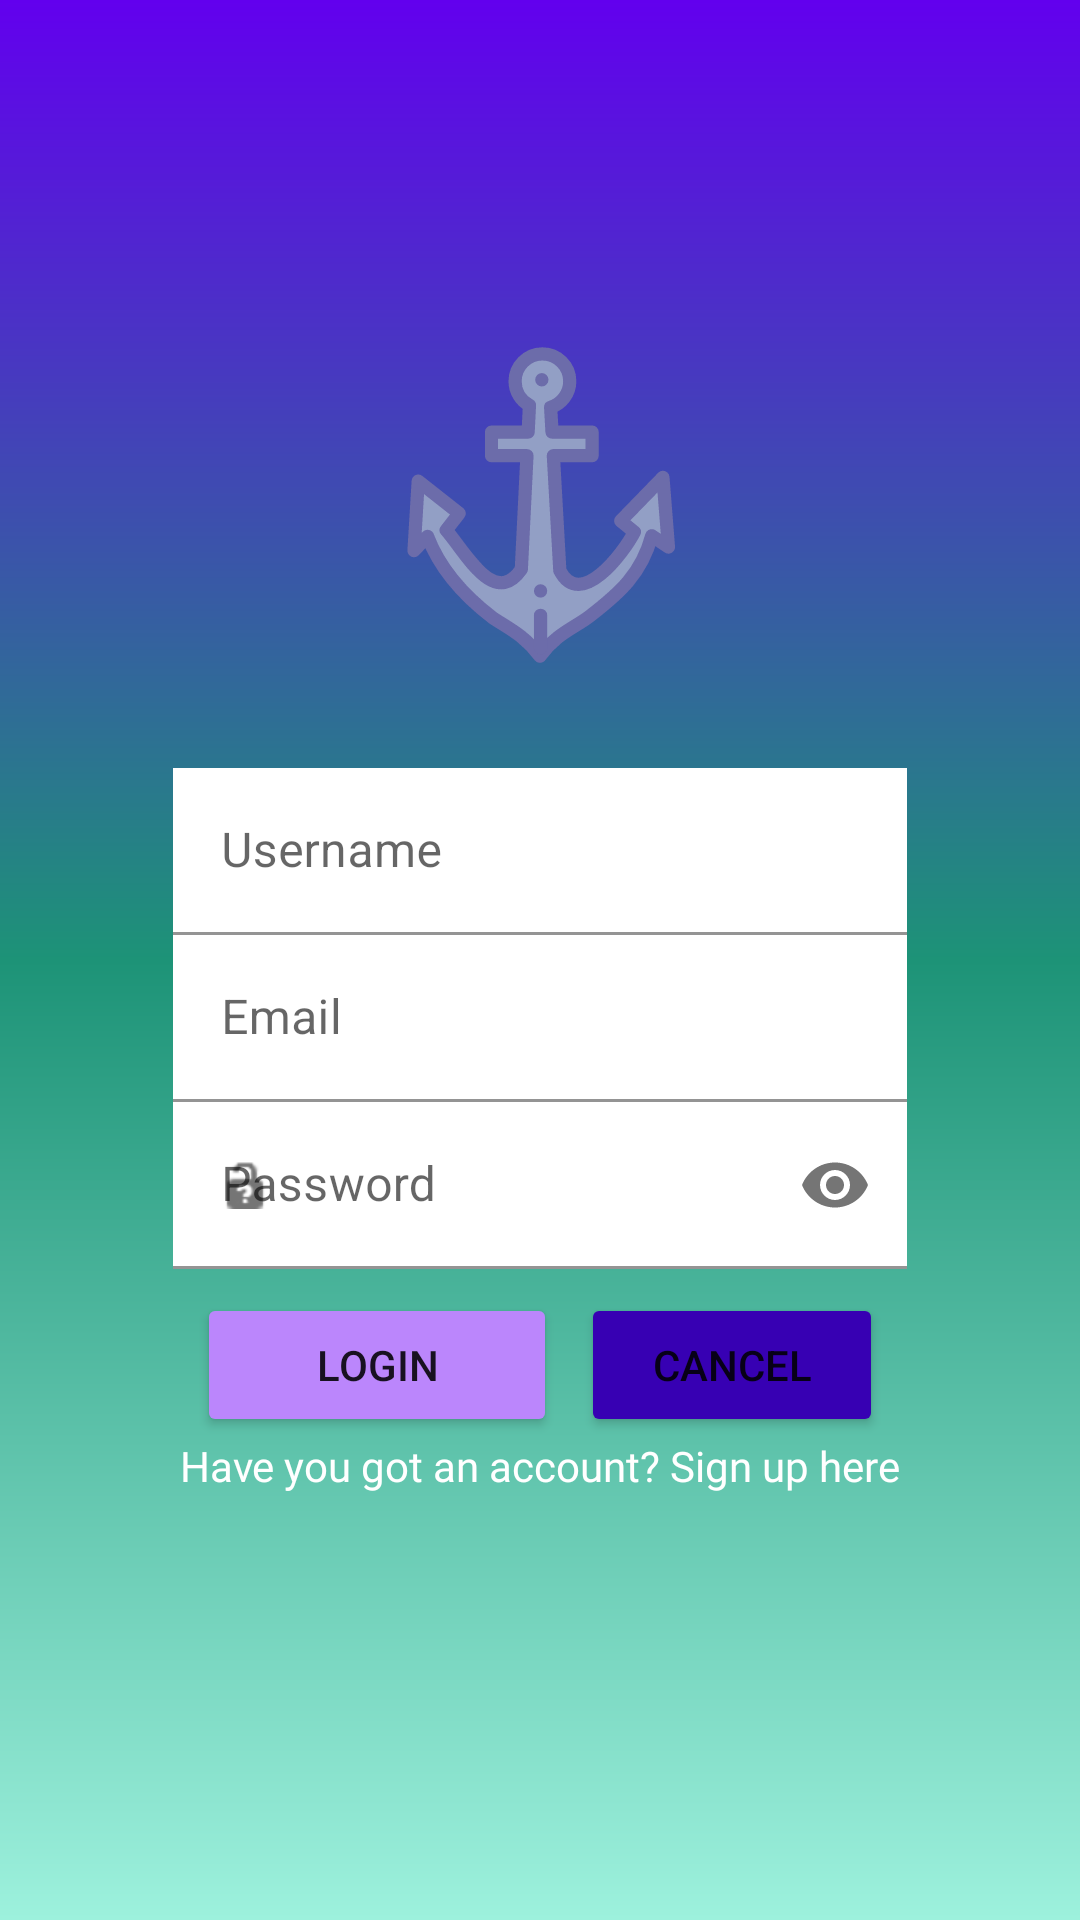

Where to tap for icons on this 1080px x 1920px app screen, as (x,y):
ancla: (540,504)
